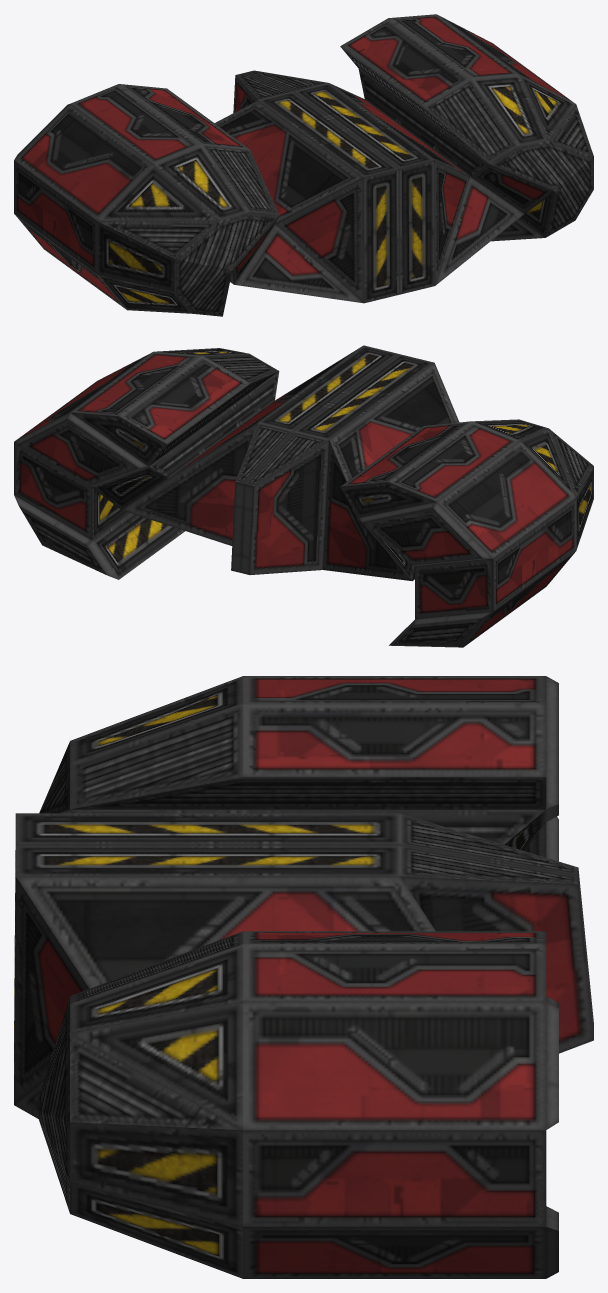
The model's file is BFP_ConstRearHullSect01.FBX.
3 renders of one model, top to bottom at view 1: azimuth 30°, elevation 25°; view 2: azimuth 150°, elevation 25°; view 3: azimuth 270°, elevation 25°, orthographic. The views are drawn at different scales.
Visible parts, largest first — view 1: BFP_ConstRearHullSect01; view 2: BFP_ConstRearHullSect01; view 3: BFP_ConstRearHullSect01.
Part boxes in pixels (x1=…): BFP_ConstRearHullSect01: x1=14, y1=14, x2=593, y2=316; BFP_ConstRearHullSect01: x1=14, y1=345, x2=593, y2=647; BFP_ConstRearHullSect01: x1=14, y1=676, x2=593, y2=1278.
Size of the model in its own units: 310 by 101 by 178.
1 material, 1 textured.
